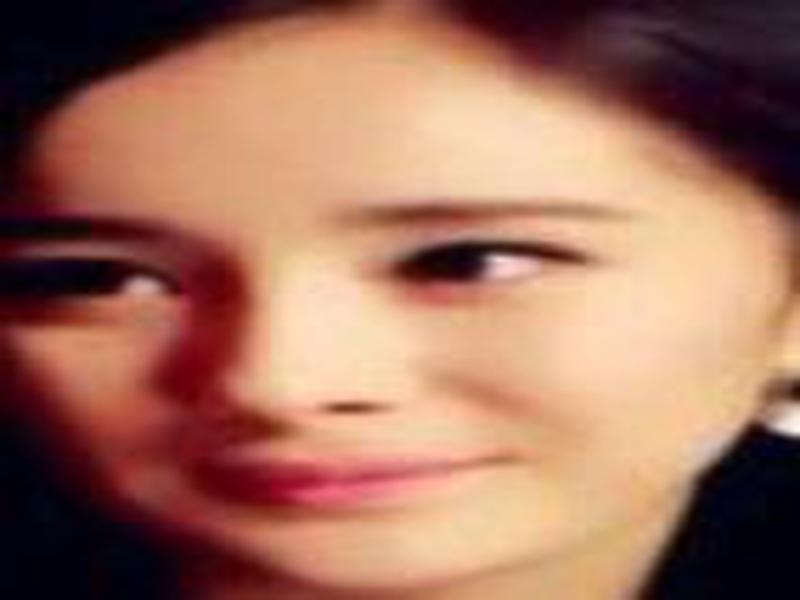without_mask: (8, 44, 749, 584)
